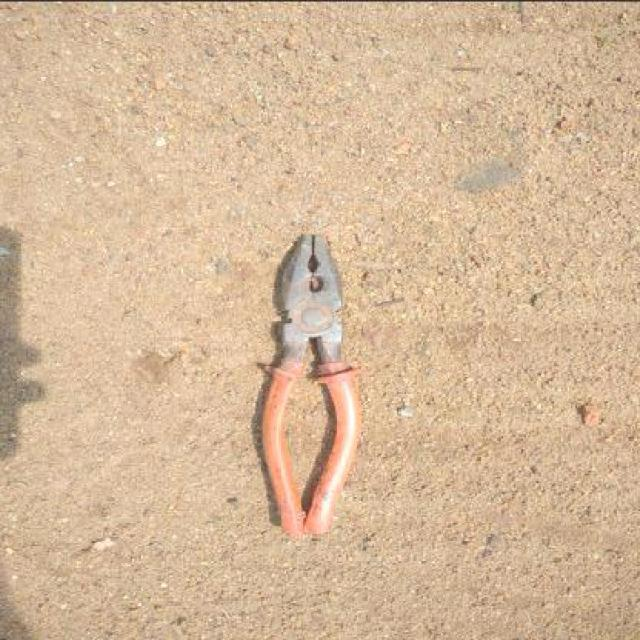pliers: (248, 233, 361, 539)
